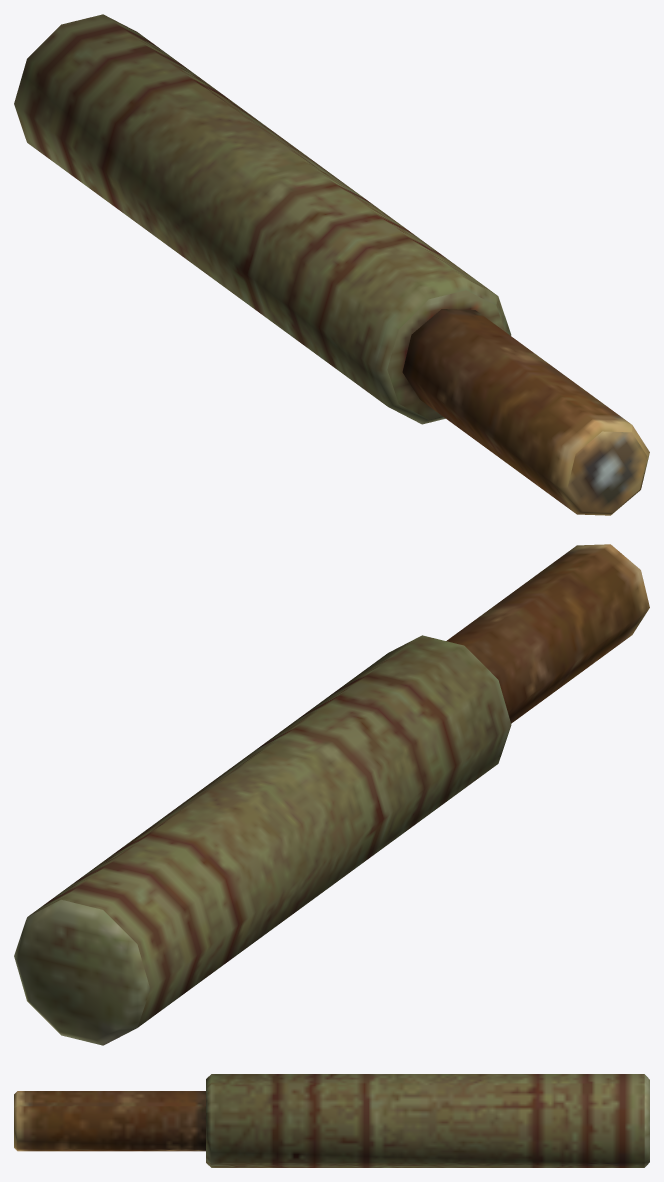
The model's file is guiding_rod03.dae.
3 views of the same model, one above another, from view 1: azimuth 30°, elevation 25°; view 2: azimuth 150°, elevation 25°; view 3: azimuth 270°, elevation 25° (orthographic). The views are drawn at different scales.
Visible parts, largest first — view 1: guiding_rod03; view 2: guiding_rod03; view 3: guiding_rod03.
Part boxes in pixels (x1=…): guiding_rod03: x1=14, y1=14, x2=649, y2=515; guiding_rod03: x1=14, y1=544, x2=649, y2=1045; guiding_rod03: x1=14, y1=1074, x2=649, y2=1167.
Size of the model in its own units: 0.0743 by 0.0707 by 0.5.
